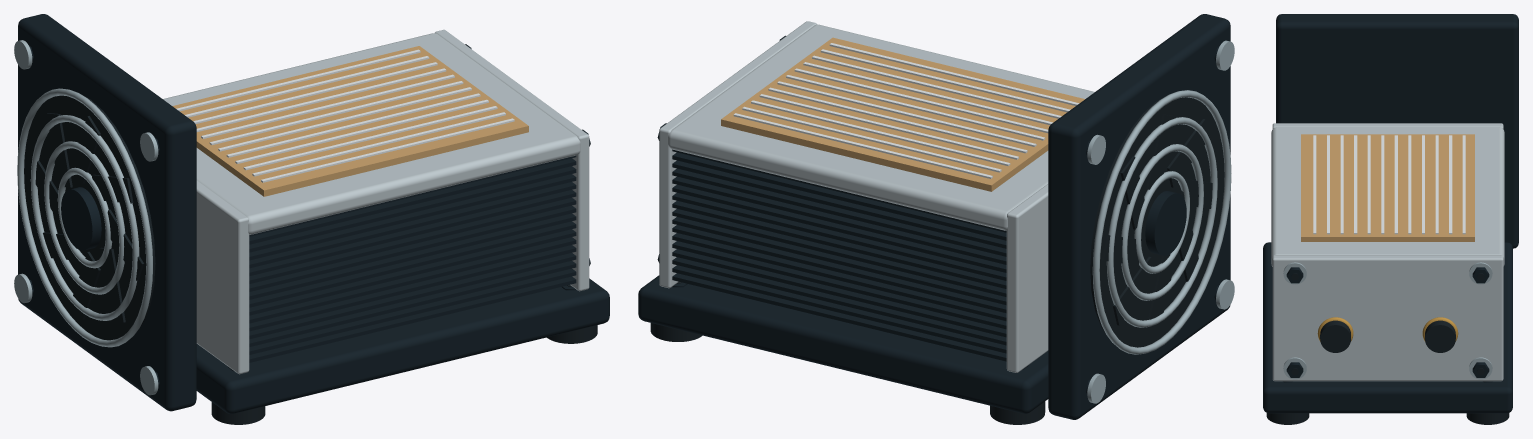
Rendered from heater.glb.
3 views of the same model, side by side, from view 1: azimuth 30°, elevation 25°; view 2: azimuth 150°, elevation 25°; view 3: azimuth 270°, elevation 25° (orthographic). The views are drawn at different scales.
Parts seen in each view (by area): view 1: black-anodised, satin-aluminium, heater-element, matte-polymer, stainless-steel, machined-edge; view 2: black-anodised, satin-aluminium, heater-element, matte-polymer, stainless-steel, machined-edge; view 3: black-anodised, satin-aluminium, heater-element, machined-edge, matte-polymer, stainless-steel, plated-brass.
Boxes of the visible parts, x1,y1,x2,y2 form: black-anodised: (18,14,609,413); satin-aluminium: (163,29,589,374); heater-element: (172,46,528,196); matte-polymer: (24,94,597,424); stainless-steel: (14,40,158,395); machined-edge: (176,49,514,182); black-anodised: (638,14,1230,419); satin-aluminium: (659,21,1094,372); heater-element: (721,37,1084,191); matte-polymer: (650,95,1224,424); stainless-steel: (1087,40,1234,403); machined-edge: (733,43,1079,178); black-anodised: (1263,14,1518,413); satin-aluminium: (1271,123,1504,381); heater-element: (1301,134,1474,241); machined-edge: (1313,135,1465,234); matte-polymer: (1266,273,1509,424); stainless-steel: (1283,262,1492,379); plated-brass: (1317,317,1458,341).
Bounding box in the file's own units: 1.75 × 1.13 × 1.07.
